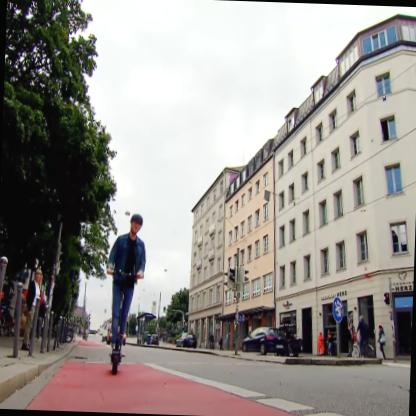helmet: (124, 211, 144, 240)
human: (105, 212, 145, 342)
kickboard: (103, 338, 133, 372)
